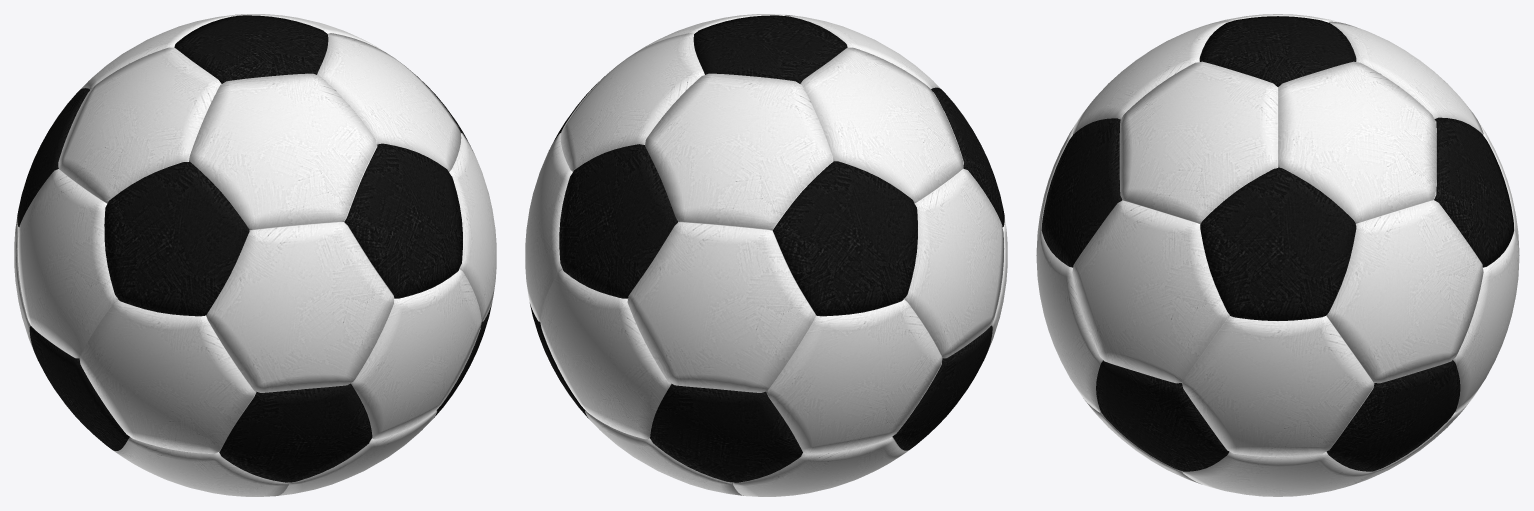
Rendered from Simple soccer football.glb.
3 views of the same model, side by side, from view 1: azimuth 30°, elevation 25°; view 2: azimuth 150°, elevation 25°; view 3: azimuth 270°, elevation 25° (orthographic).
Parts seen in each view (by area): view 1: Icosphere_Icosphere.006; view 2: Icosphere_Icosphere.006; view 3: Icosphere_Icosphere.006.
Part boxes in pixels (<box>): Icosphere_Icosphere.006: <box>14,14,496,496</box>; Icosphere_Icosphere.006: <box>525,14,1007,496</box>; Icosphere_Icosphere.006: <box>1036,14,1519,496</box>.
Bounding box in the file's own units: 1.47 × 1.47 × 1.47.
Materials: 2 (2 with a texture image).
